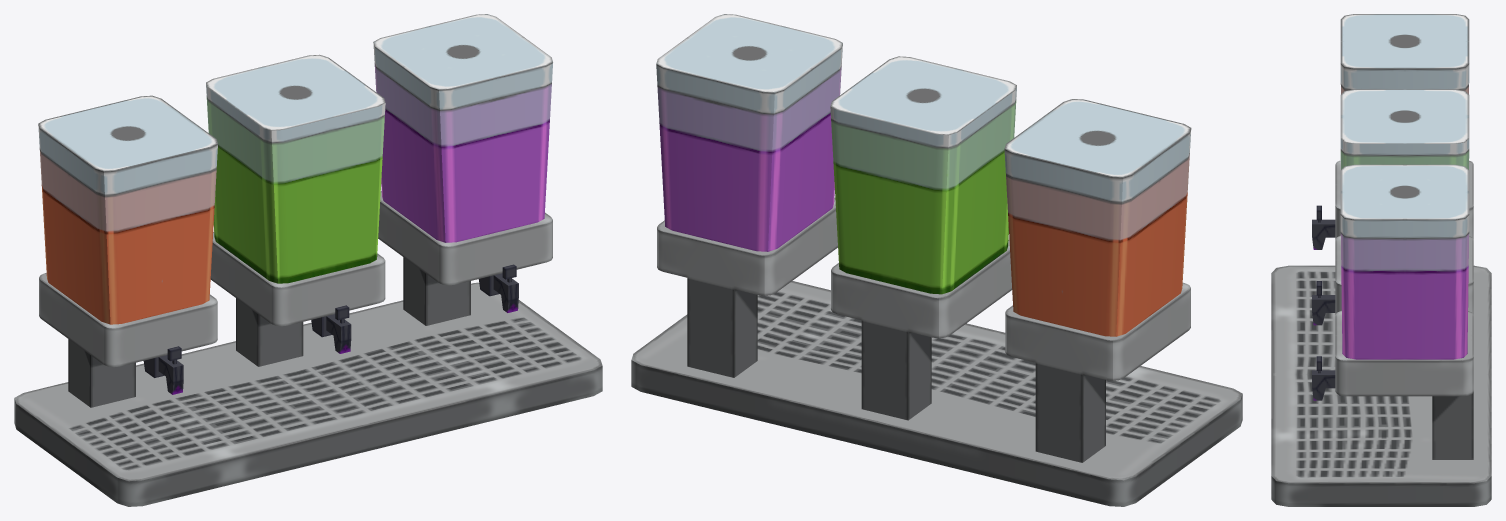
The model's file is JuiceMesh.fbx.
The picture shows the model from 3 angles, left to right: view 1: azimuth 30°, elevation 25°; view 2: azimuth 150°, elevation 25°; view 3: azimuth 270°, elevation 25°; orthographic projection. The views are drawn at different scales.
Visible parts, largest first — view 1: polySurface4, Orangejuice1, Greenaplejuice1, Grepejuice1, BaseJuice1; view 2: polySurface4, Orangejuice1, Greenaplejuice1, Grepejuice1; view 3: polySurface4, Grepejuice1, Orangejuice1, Greenaplejuice1, BaseJuice1.
Boxes of the visible parts, left/top/right/bottom form: polySurface4: left=14, top=191, right=602, bottom=506; Orangejuice1: left=38, top=95, right=217, bottom=324; Greenaplejuice1: left=206, top=54, right=385, bottom=283; Grepejuice1: left=373, top=14, right=552, bottom=242; BaseJuice1: left=478, top=264, right=518, bottom=312; polySurface4: left=631, top=197, right=1242, bottom=506; Orangejuice1: left=1004, top=99, right=1191, bottom=336; Greenaplejuice1: left=830, top=56, right=1016, bottom=294; Grepejuice1: left=656, top=14, right=842, bottom=251; polySurface4: left=1271, top=160, right=1491, bottom=506; Grepejuice1: left=1340, top=164, right=1469, bottom=359; Orangejuice1: left=1340, top=14, right=1469, bottom=93; Greenaplejuice1: left=1340, top=89, right=1469, bottom=169; BaseJuice1: left=1312, top=356, right=1339, bottom=400.
Bounding box in the file's own units: 2.97 × 1.79 × 1.27.
